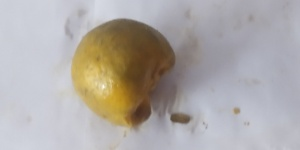BAD: (71, 16, 174, 129)
